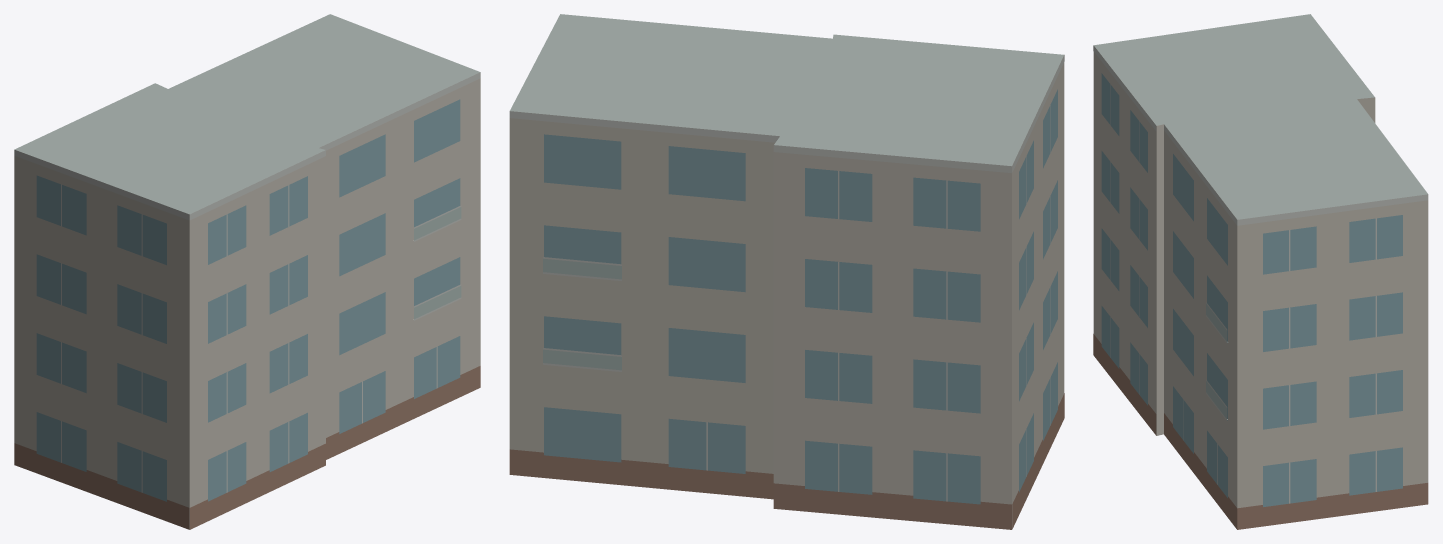
The model's file is survey-upis-32994235.glb.
The picture shows the model from 3 angles, left to right: view 1: azimuth 30°, elevation 25°; view 2: azimuth 150°, elevation 25°; view 3: azimuth 270°, elevation 25°; orthographic projection. The views are drawn at different scales.
Parts seen in each view (by area): view 1: survey-upis-32994235.tmp; view 2: survey-upis-32994235.tmp; view 3: survey-upis-32994235.tmp.
Part boxes in pixels (x1=…): survey-upis-32994235.tmp: x1=14, y1=14, x2=480, y2=529; survey-upis-32994235.tmp: x1=509, y1=14, x2=1064, y2=529; survey-upis-32994235.tmp: x1=1093, y1=14, x2=1428, y2=529.
Bounding box in the file's own units: 18.09 × 12.7 × 12.44.
